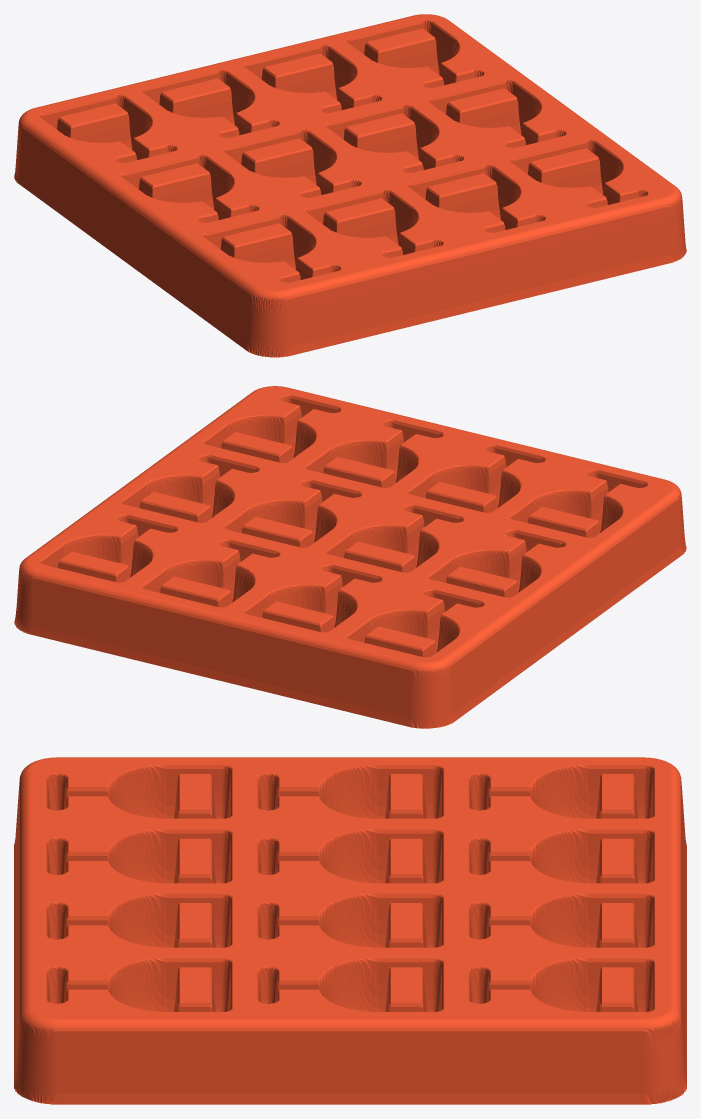
File: mold.glb
The picture shows the model from 3 angles, top to bottom: view 1: azimuth 30°, elevation 25°; view 2: azimuth 150°, elevation 25°; view 3: azimuth 270°, elevation 25°; orthographic projection. The views are drawn at different scales.
Visible parts, largest first — view 1: geometry_0; view 2: geometry_0; view 3: geometry_0.
Part boxes in pixels (<box>): geometry_0: <box>14,14,686,357</box>; geometry_0: <box>14,386,686,728</box>; geometry_0: <box>14,757,686,1104</box>.
Bounding box in the file's own units: 0.136 × 0.0182 × 0.141.
